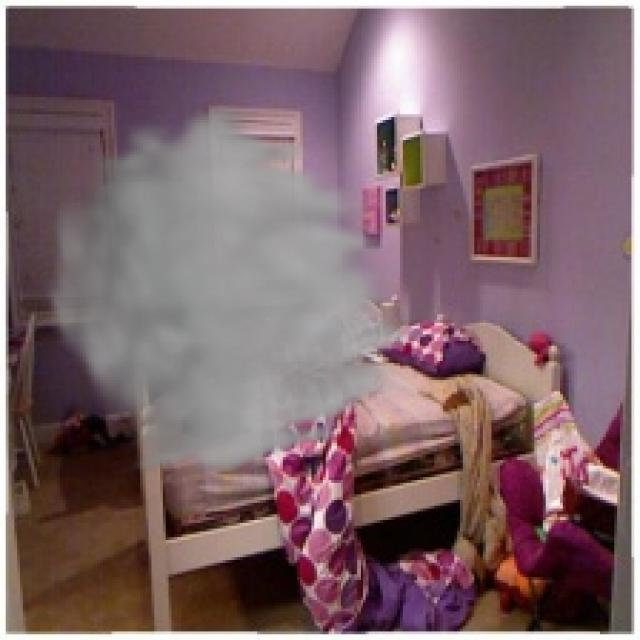Smoke: (39, 100, 432, 477)
